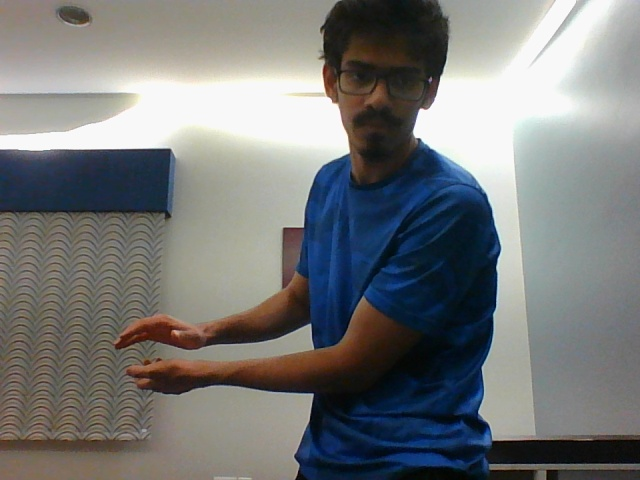charge: (110, 303, 239, 407)
